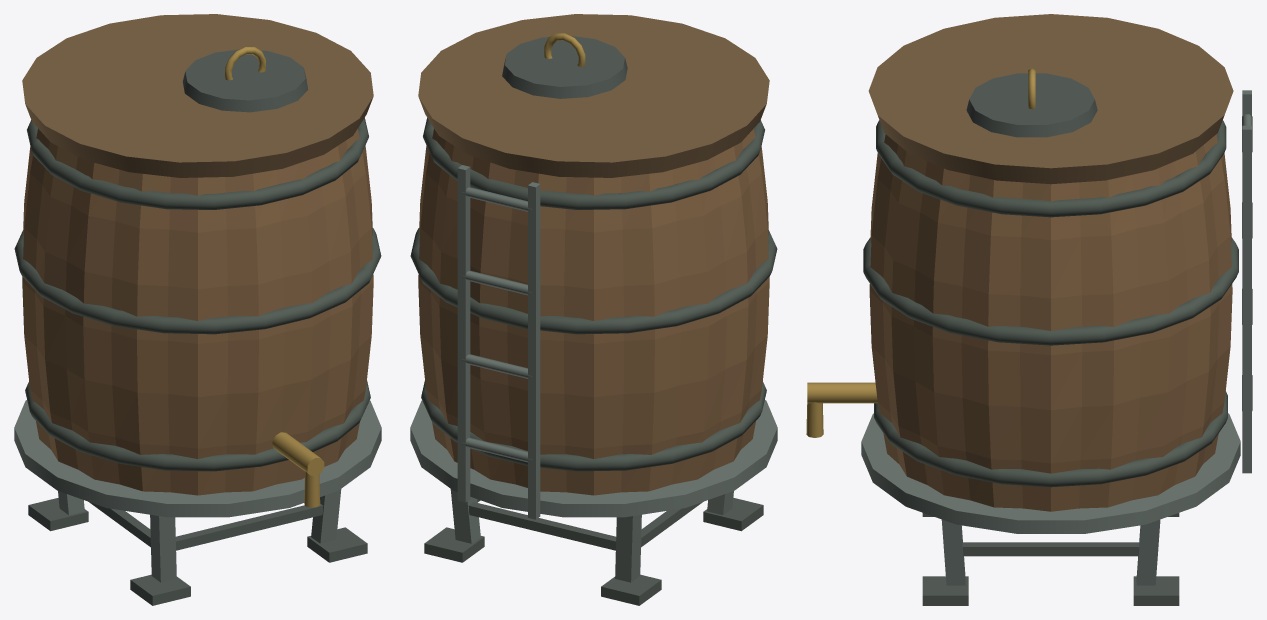
Rendered from farm-water-butt.m1.glb.
3 views of the same model, side by side, from view 1: azimuth 30°, elevation 25°; view 2: azimuth 150°, elevation 25°; view 3: azimuth 270°, elevation 25° (orthographic). The views are drawn at different scales.
Parts seen in each view (by area): view 1: waterButtStaves, waterButtHardware; view 2: waterButtHardware, waterButtStaves; view 3: waterButtStaves, waterButtHardware.
Part boxes in pixels (x1,y1,x2,y2): waterButtStaves: (22, 128, 373, 495); waterButtHardware: (14, 14, 381, 605); waterButtHardware: (410, 14, 777, 605); waterButtStaves: (418, 128, 769, 495); waterButtStaves: (869, 134, 1232, 511); waterButtHardware: (806, 14, 1252, 605).
Bounding box in the file's own units: 0.6855 × 1 × 0.806.
